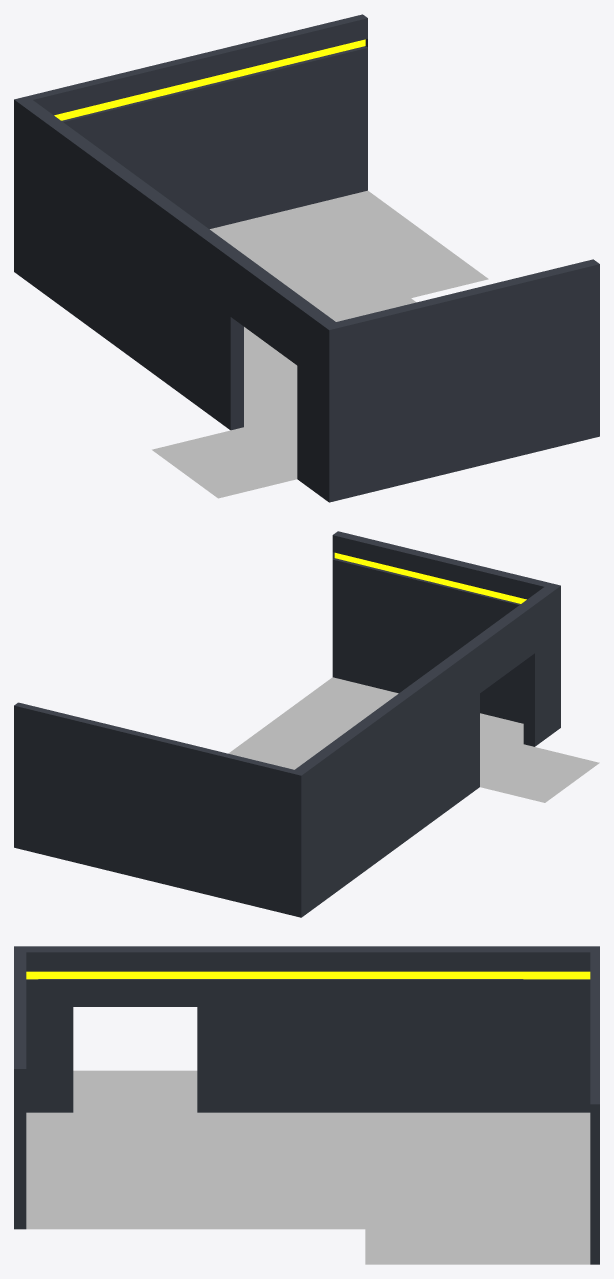
The model's file is bureau.fbx.
3 renders of one model, top to bottom at view 1: azimuth 30°, elevation 25°; view 2: azimuth 150°, elevation 25°; view 3: azimuth 270°, elevation 25°, orthographic. The views are drawn at different scales.
Visible parts, largest first — view 1: Plane; view 2: Plane; view 3: Plane.
Part boxes in pixels (bbox=[...]): Plane: bbox=[14, 14, 599, 502]; Plane: bbox=[14, 531, 599, 917]; Plane: bbox=[14, 946, 599, 1264].
Size of the model in its own units: 1008 by 790 by 304.
